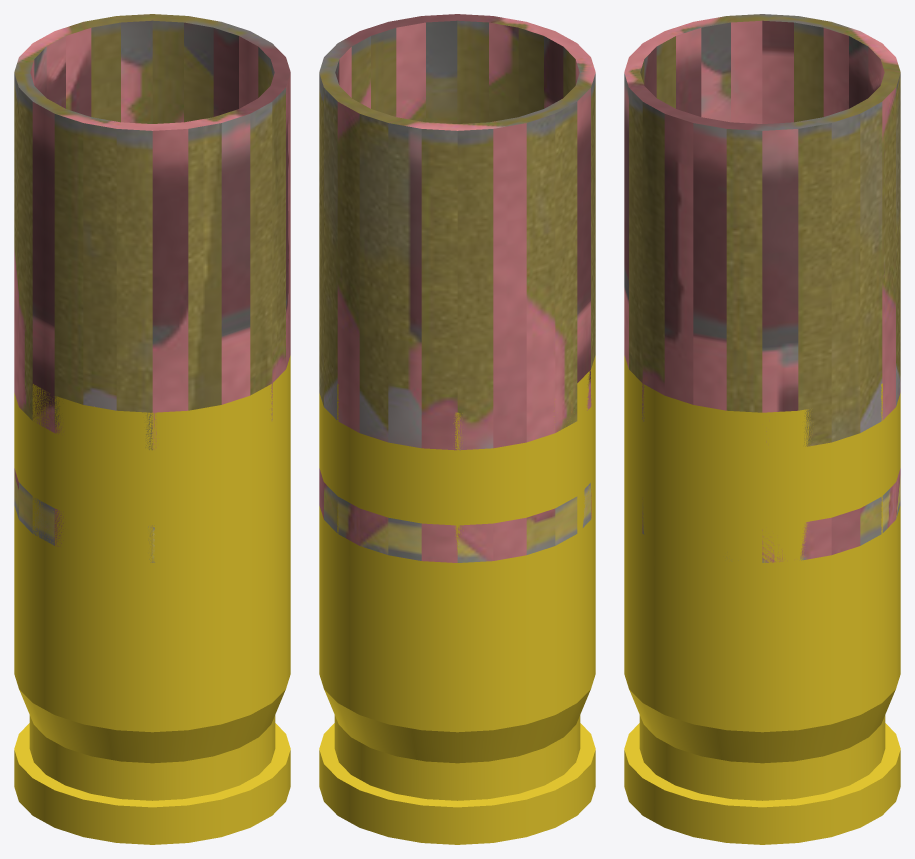
The model's file is ammo_uzi.glb.
The picture shows the model from 3 angles, left to right: view 1: azimuth 30°, elevation 25°; view 2: azimuth 150°, elevation 25°; view 3: azimuth 270°, elevation 25°; orthographic projection.
Visible parts, largest first — view 1: Group (×2); view 2: Group (×2); view 3: Group (×2).
Part boxes in pixels (box(x1,y1,x2,y2)): Group (×2): box(14, 14, 290, 844); Group (×2): box(319, 14, 595, 844); Group (×2): box(624, 14, 900, 844).
Size of the model in its own units: 0.0255 by 0.0727 by 0.0255.
Materials: 3 (1 with a texture image).
